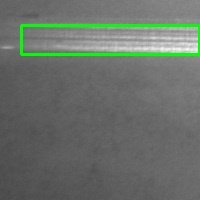scratches: (21, 25, 199, 54)
